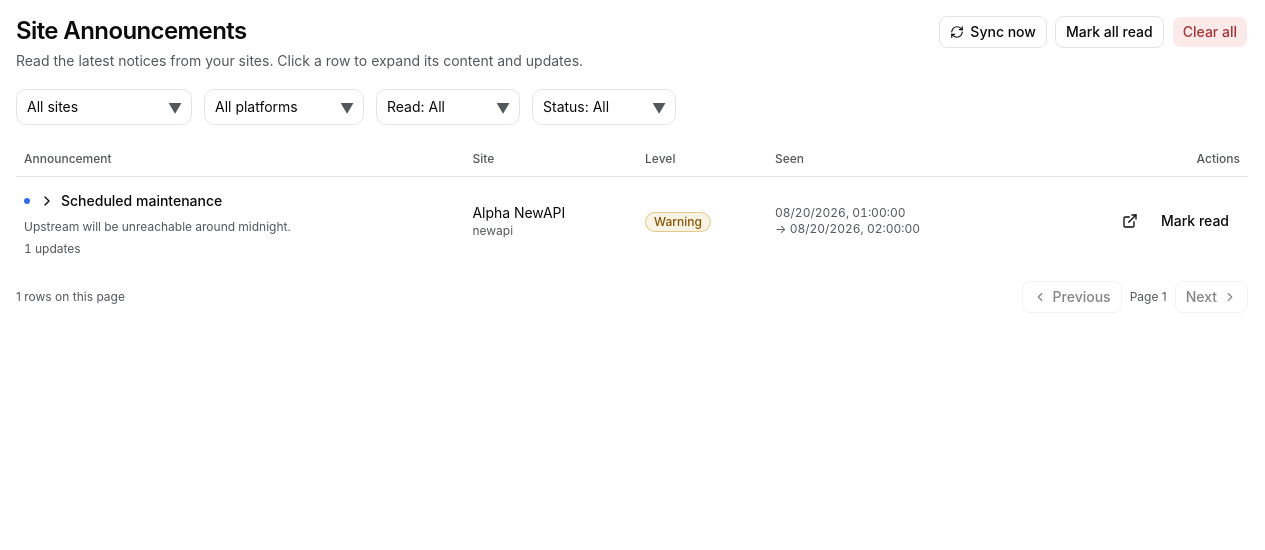
SiteAnnouncementsPage — list rendering › opens the complete announcement and its previous versions
Click the button "Scheduled maintenance": coordinates (131, 201) [38,185,223,217]
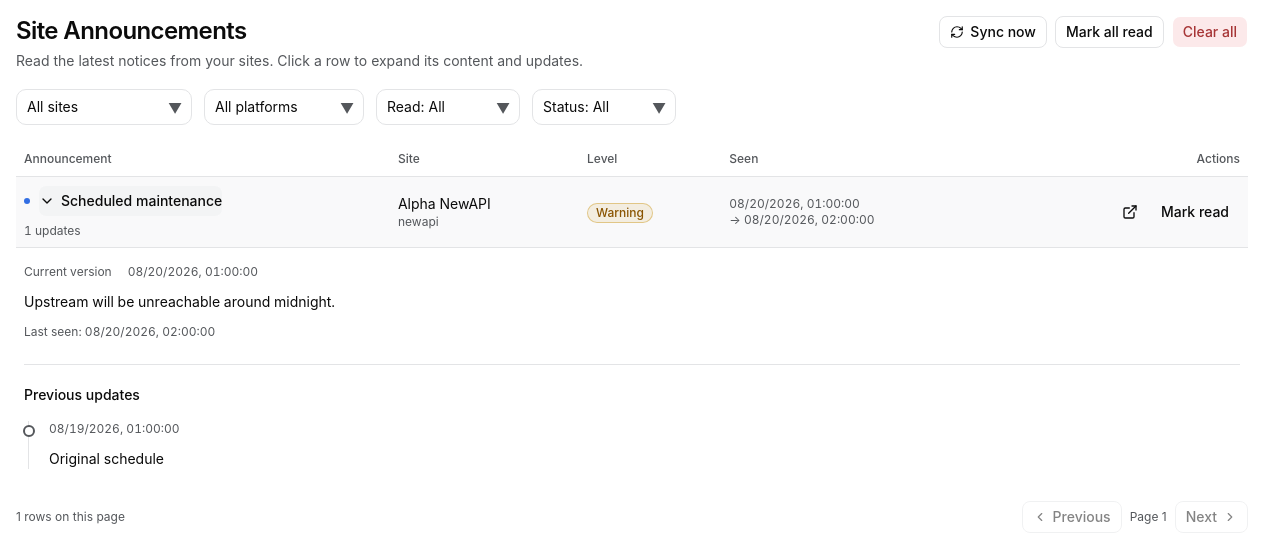
Now the text "Original schedule" is shown, box [49,450,164,467]
Now the text "Current version" is shown, box [24,264,112,280]
Now the text "Upstream will be unreachable around midnight." is shown once, box [24,293,335,310]
Click the button "Scheduled maintenance": coordinates (131, 201) [38,185,223,217]
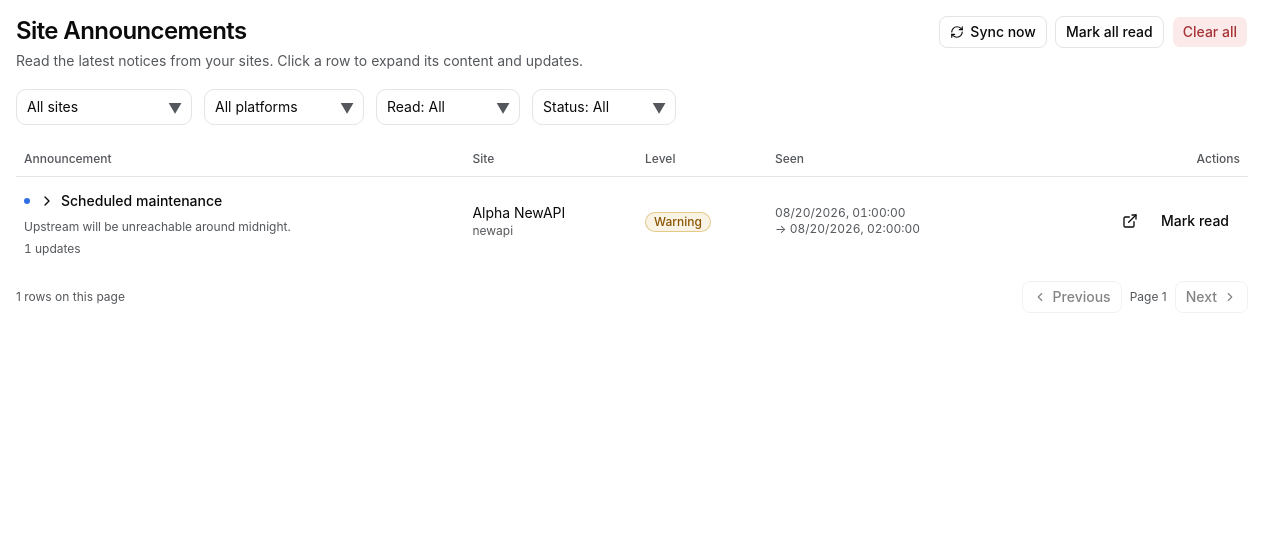
Now the text "Original schedule" is gone
